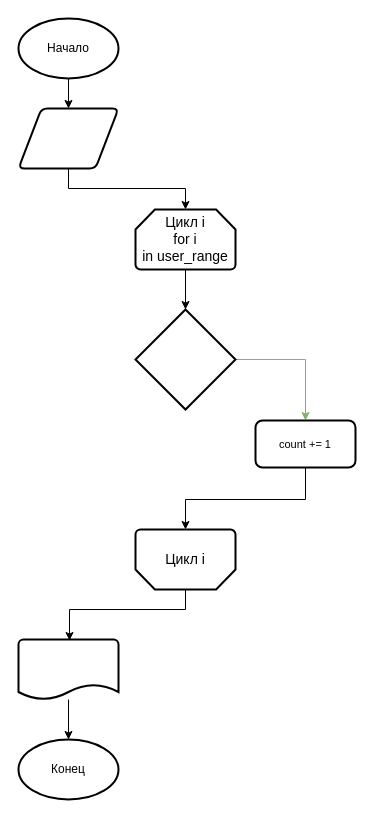
The diagram is 373 pixels wide and 817 high, and some of its shapes have lost their labels. The shapes that lost their labels are listed below. From the top down, each one's box as (x1, y1, x2, y2) in pixels, then its label:
(17, 107, 119, 169): user_range user_patten count = 0
(134, 308, 236, 410): i == user_patten
(17, 638, 119, 700): count
